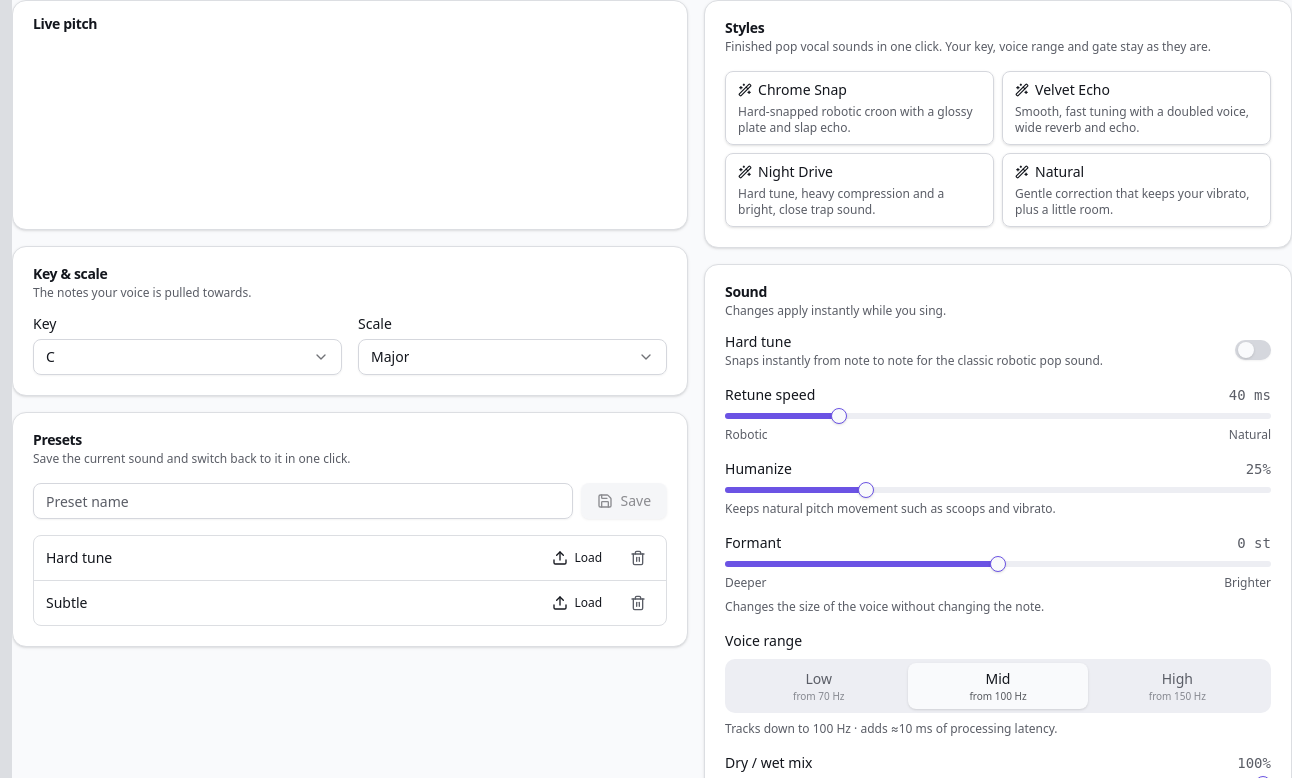
Test case: TunePanel (FR-06 – FR-11) › FR-23: hard tune sends { hardTune } and locks retune and humanize
This screenshot has width=1292, height=778.
Expected: the dropdown named "Key" is shown, 33,339 -> 342,375
Click the switch named "Hard tune": (1253, 350) 1235,340 -> 1271,360
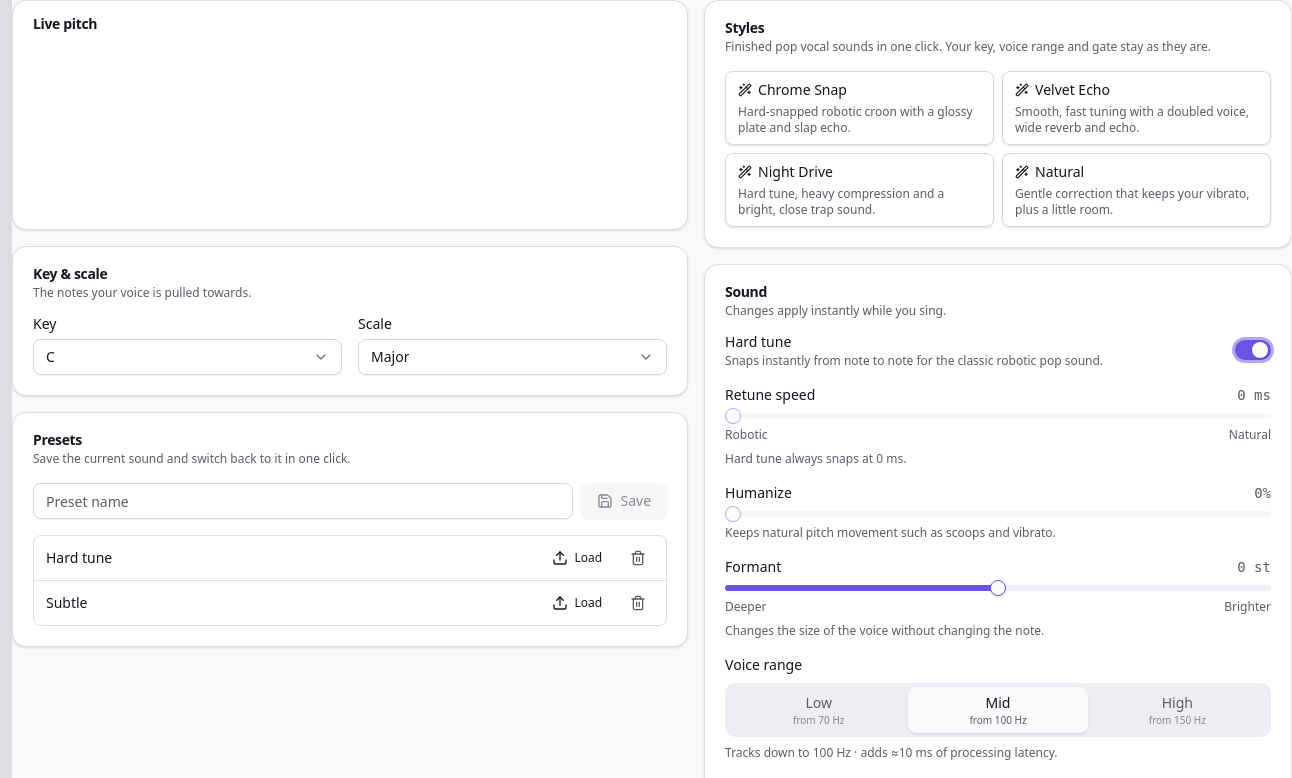
Result: the text "Hard tune always snaps at 0 ms." is shown at 725,450 -> 906,467
